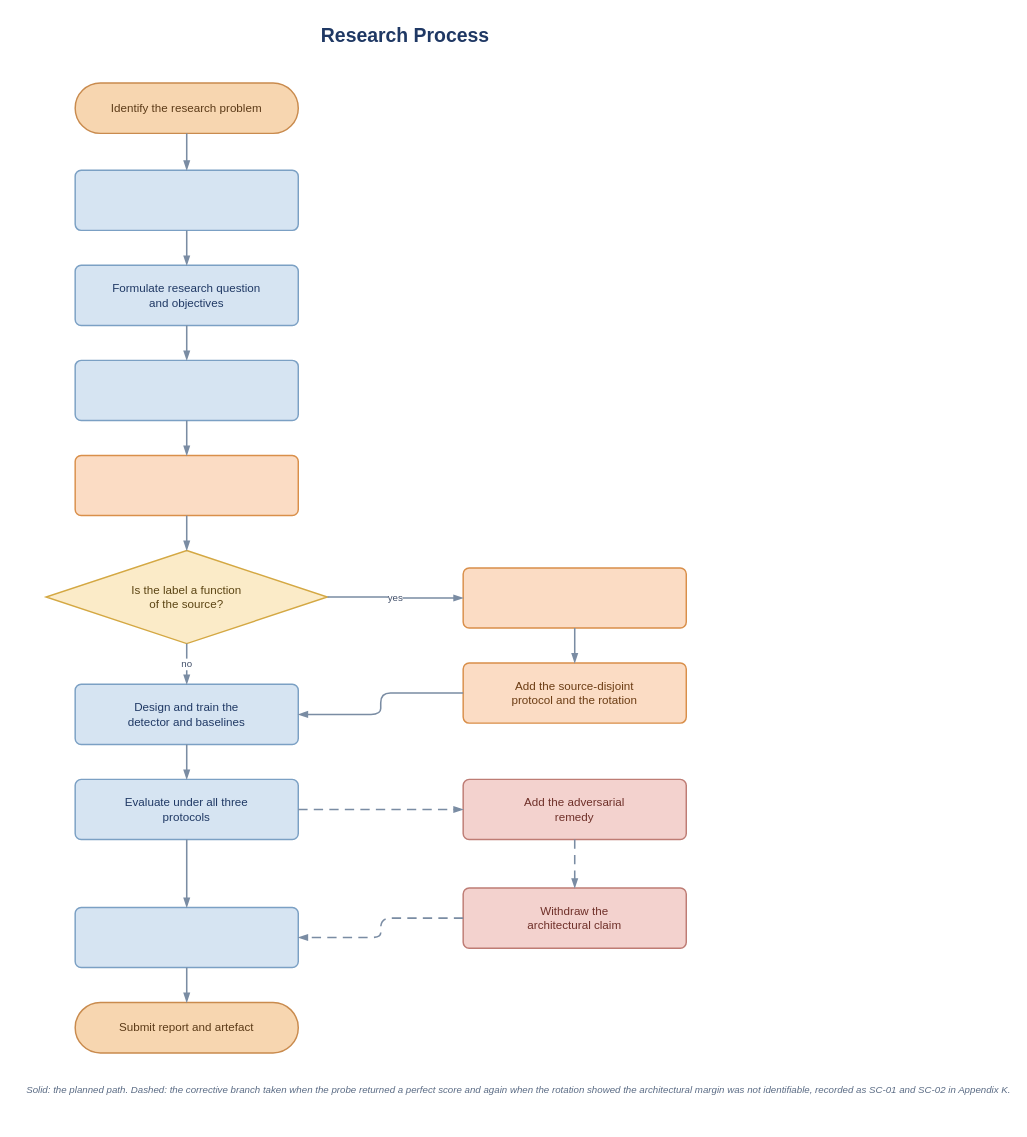
The diagram is 1027 pixels wide and 1137 high, and some of its shapes have lost their labels. The centre of each missing label's shape, as x and y in pixels:
"Build the corpus and the evaluation protocols" belongs at (x=186, y=390).
"Interpret, evaluate the approach, reflect" belongs at (x=186, y=937).
"Literature review and gap analysis" belongs at (x=186, y=200).
"Reframe: measure the benchmark, not the model" belongs at (x=574, y=597).
"Run the content-free shortcut probe" belongs at (x=186, y=485).
